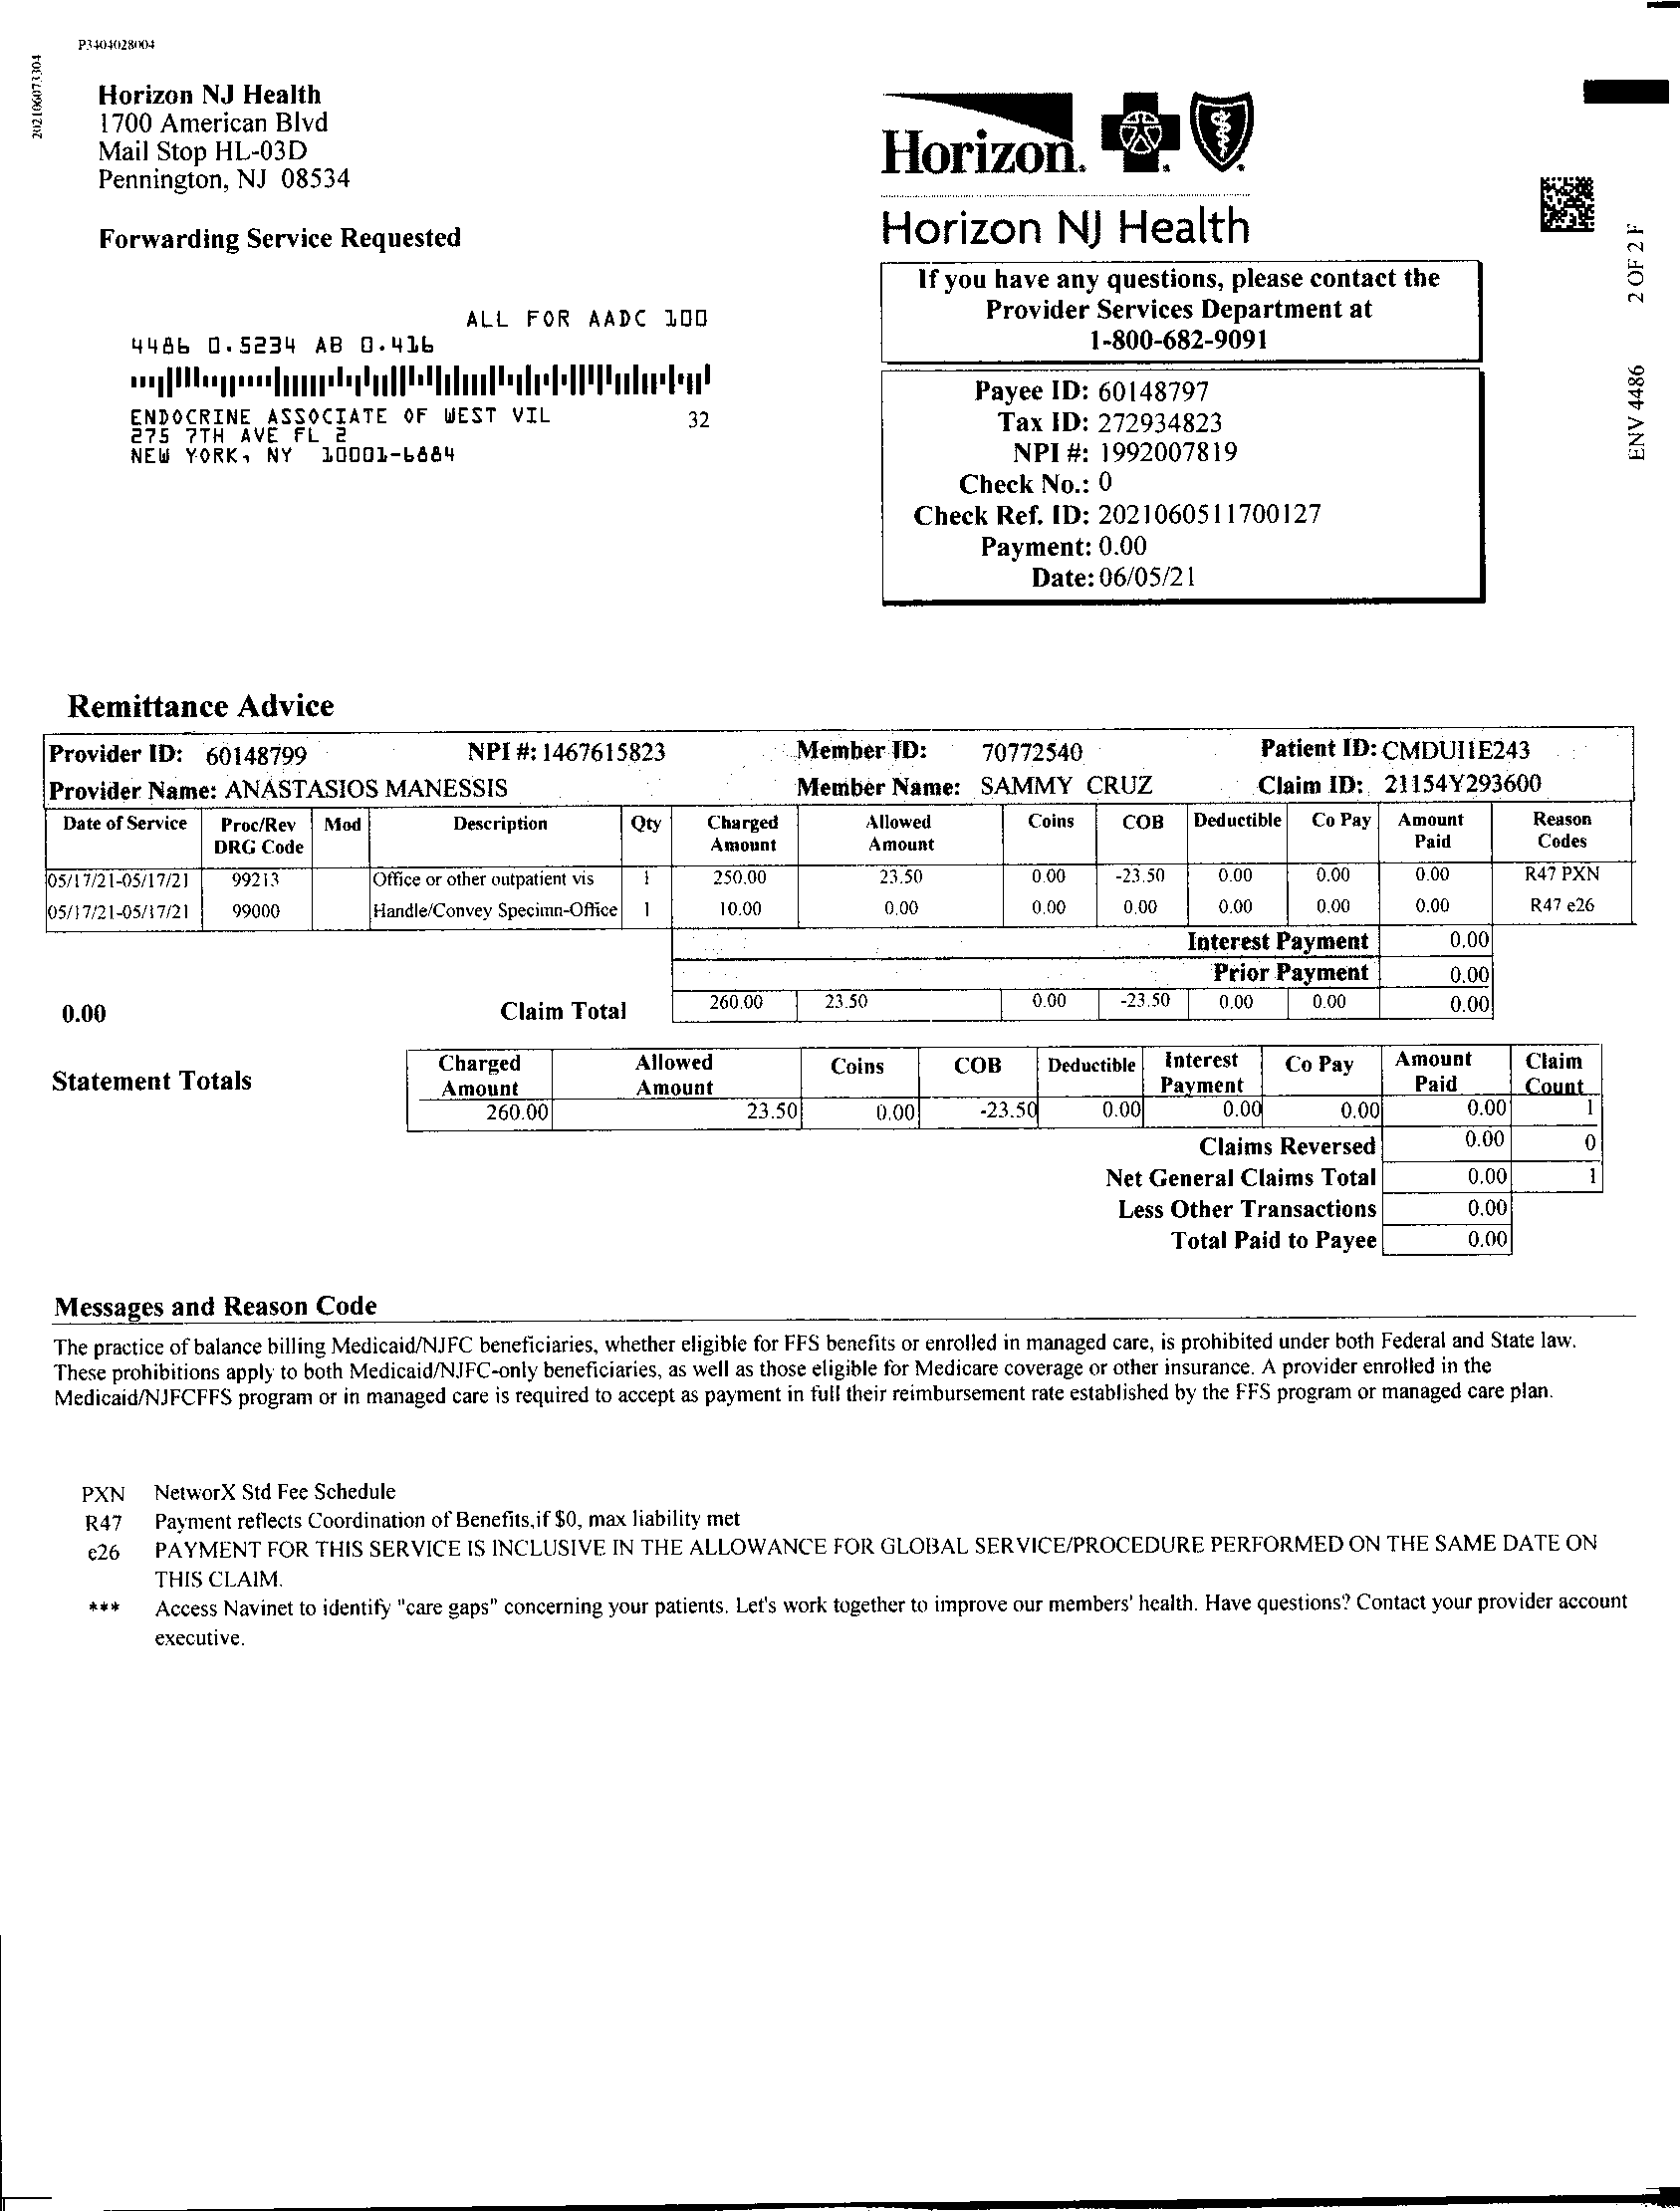data: (868, 358, 1496, 614)
table: (46, 720, 1655, 941), (406, 1022, 1618, 1129)
